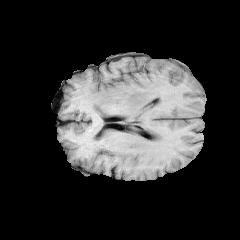glioma: (89, 77, 177, 110)
